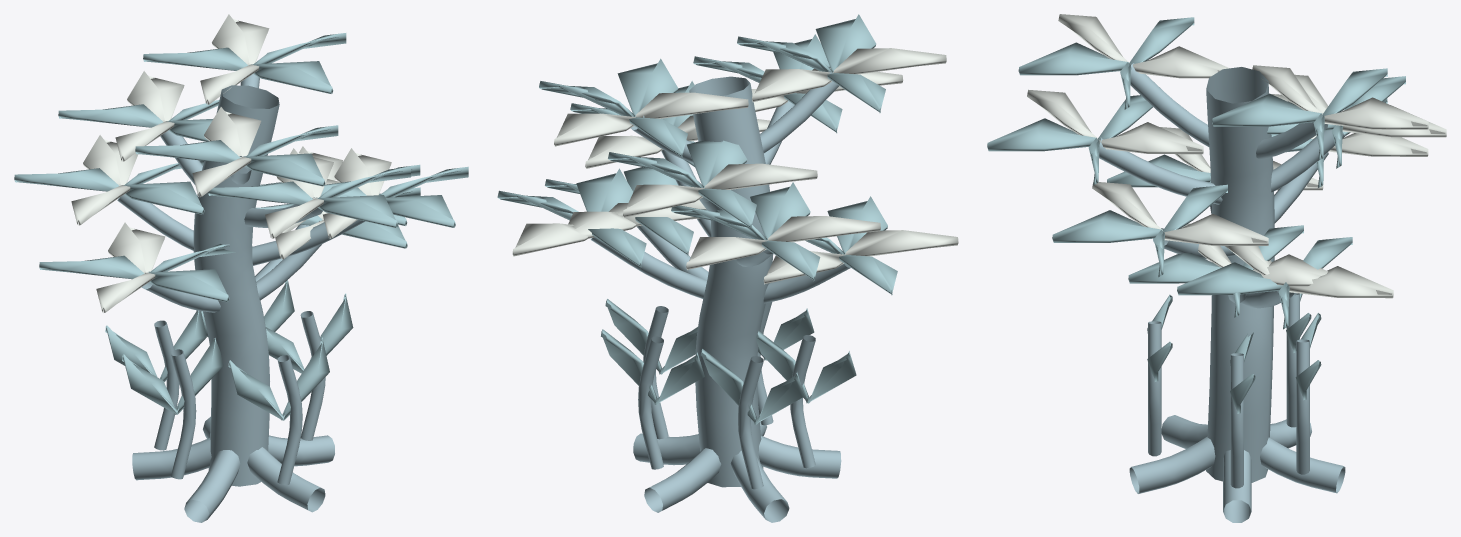
File: bio_canopy_tree_17_far.glb
3 views of the same model, side by side, from view 1: azimuth 30°, elevation 25°; view 2: azimuth 150°, elevation 25°; view 3: azimuth 270°, elevation 25° (orthographic). The views are drawn at different scales.
Parts seen in each view (by area): view 1: Buttressed trunk, Broad canopy leaf.035, Broad canopy leaf.015, Broad canopy leaf.010, Broad canopy leaf.020, Broad canopy leaf.005, Broad canopy leaf.021, Broad canopy leaf.036, Broad canopy leaf.025, Broad canopy leaf.030, Broad canopy leaf.031, Broad canopy leaf.016 (+14 smaller); view 2: Buttressed trunk, Broad canopy leaf.035, Broad canopy leaf.015, Broad canopy leaf.005, Broad canopy leaf.030, Broad canopy leaf.016, Broad canopy leaf.031, Broad canopy leaf.036, Broad canopy leaf.006, Broad canopy leaf.040, Broad canopy leaf.021, Broad canopy leaf.020 (+17 smaller); view 3: Buttressed trunk, Broad canopy leaf.035, Broad canopy leaf.015, Broad canopy leaf.025, Broad canopy leaf.010, Broad canopy leaf.011, Broad canopy leaf.026, Broad canopy leaf.040, Broad canopy leaf.016, Broad canopy leaf.036, Broad canopy leaf, Broad canopy leaf.041 (+13 smaller).
Part boxes in pixels (x1,y1,x2,y2): Buttressed trunk: [117, 74, 365, 522]; Broad canopy leaf.035: [135, 125, 338, 186]; Broad canopy leaf.015: [143, 33, 346, 93]; Broad canopy leaf.010: [208, 166, 410, 227]; Broad canopy leaf.020: [39, 243, 235, 302]; Broad canopy leaf.005: [14, 160, 204, 214]; Broad canopy leaf.021: [96, 222, 165, 312]; Broad canopy leaf.036: [192, 107, 261, 197]; Broad canopy leaf.025: [321, 166, 468, 227]; Broad canopy leaf.030: [58, 100, 219, 141]; Broad canopy leaf.031: [115, 71, 184, 161]; Broad canopy leaf.016: [200, 14, 269, 104]; Buttressed trunk: [590, 71, 850, 522]; Broad canopy leaf.035: [737, 14, 885, 112]; Broad canopy leaf.015: [539, 58, 687, 157]; Broad canopy leaf.005: [671, 182, 820, 281]; Broad canopy leaf.030: [608, 140, 756, 228]; Broad canopy leaf.016: [554, 92, 748, 146]; Broad canopy leaf.031: [623, 163, 817, 217]; Broad canopy leaf.036: [752, 48, 946, 101]; Broad canopy leaf.006: [686, 216, 880, 269]; Broad canopy leaf.040: [497, 168, 646, 267]; Broad canopy leaf.021: [763, 230, 958, 284]; Broad canopy leaf.020: [805, 196, 897, 295]; Buttressed trunk: [1099, 63, 1345, 522]; Broad canopy leaf.035: [1018, 17, 1194, 109]; Broad canopy leaf.015: [1212, 68, 1387, 160]; Broad canopy leaf.025: [1052, 184, 1227, 277]; Broad canopy leaf.010: [987, 95, 1152, 185]; Broad canopy leaf.011: [1027, 89, 1203, 154]; Broad canopy leaf.026: [1092, 182, 1268, 245]; Broad canopy leaf.040: [1177, 237, 1352, 329]; Broad canopy leaf.016: [1252, 65, 1428, 129]; Broad canopy leaf.036: [1058, 14, 1229, 78]; Broad canopy leaf: [1128, 225, 1303, 317]; Broad canopy leaf.041: [1225, 246, 1393, 298].
Bounding box in the file's own units: 3.06 × 2.99 × 3.05.
